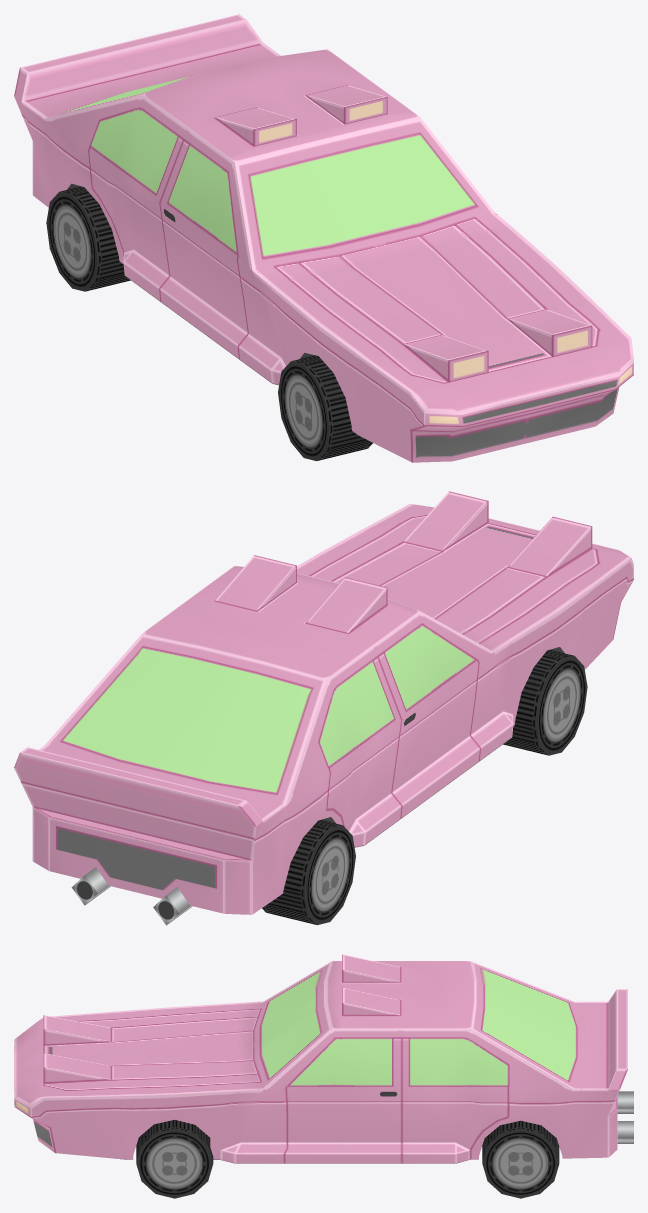
Rendered from racecar.glb.
The picture shows the model from 3 angles, top to bottom: view 1: azimuth 30°, elevation 25°; view 2: azimuth 150°, elevation 25°; view 3: azimuth 270°, elevation 25°; orthographic projection. The views are drawn at different scales.
Visible parts, largest first — view 1: pCube3, pCylinder2, pCylinder3; view 2: pCube3, pCylinder3, pCylinder2; view 3: pCube3, pCylinder4, pCylinder5.
Boxes of the visible parts, x1,y1,x2,y2 form: pCube3: (14,14,633,462); pCylinder2: (278,355,372,461); pCylinder3: (46,186,130,291); pCube3: (14,491,633,925); pCylinder3: (262,820,355,925); pCylinder2: (503,649,587,755); pCube3: (14,954,633,1163); pCylinder4: (136,1119,213,1198); pCylinder5: (482,1120,559,1198).
Size of the model in its own units: 5 by 4.28 by 13.91.
2 materials, 2 textured.
